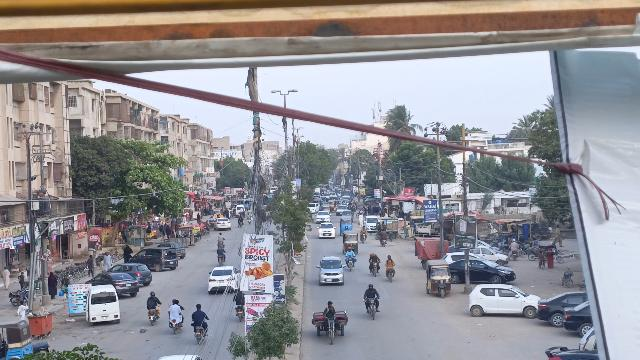Bike: (190, 323, 207, 347), (364, 296, 379, 321), (170, 318, 181, 337), (233, 305, 245, 322), (147, 307, 157, 326), (369, 261, 380, 278), (345, 256, 356, 271), (386, 265, 394, 284), (379, 238, 389, 248), (217, 253, 225, 265), (360, 232, 367, 244)
Car: (467, 283, 539, 323), (449, 255, 516, 286), (536, 288, 589, 326), (85, 273, 139, 297), (132, 246, 180, 271), (206, 265, 242, 295), (314, 255, 346, 287), (106, 261, 152, 283), (316, 221, 338, 239)
Cart: (310, 301, 351, 347)
Person: (46, 271, 60, 300), (190, 304, 208, 326), (16, 300, 29, 324), (146, 290, 162, 309), (362, 283, 379, 298), (168, 300, 181, 319), (2, 264, 11, 290), (84, 254, 94, 277), (324, 301, 336, 318), (233, 288, 245, 305), (102, 250, 110, 271), (17, 271, 26, 289), (384, 254, 395, 268), (369, 252, 380, 262), (345, 246, 355, 257), (216, 245, 225, 256), (379, 228, 387, 239), (216, 233, 225, 242), (360, 225, 367, 233)
Rickshaw: (423, 257, 456, 302), (0, 320, 34, 360), (341, 230, 361, 255), (339, 215, 353, 234)
Van: (85, 284, 123, 326)
